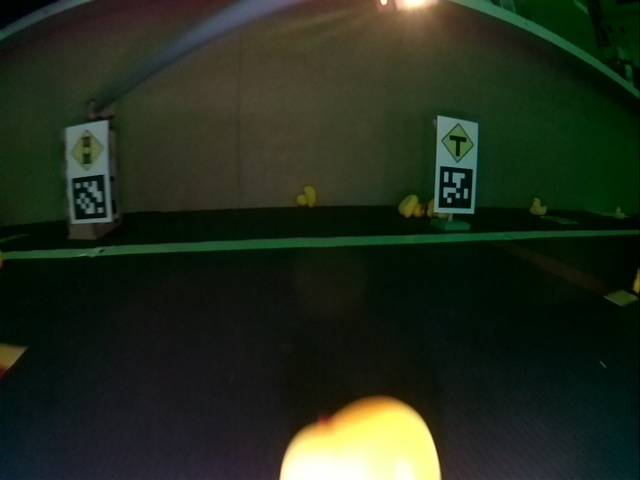Duckie: (279, 395, 443, 477), (398, 195, 422, 217), (297, 187, 316, 208), (529, 198, 546, 214), (427, 201, 444, 217), (614, 207, 625, 219)
Intersection sign: (439, 123, 476, 162)
QR code: (70, 177, 109, 220), (439, 167, 474, 208)
Signal sign: (69, 129, 104, 169)
